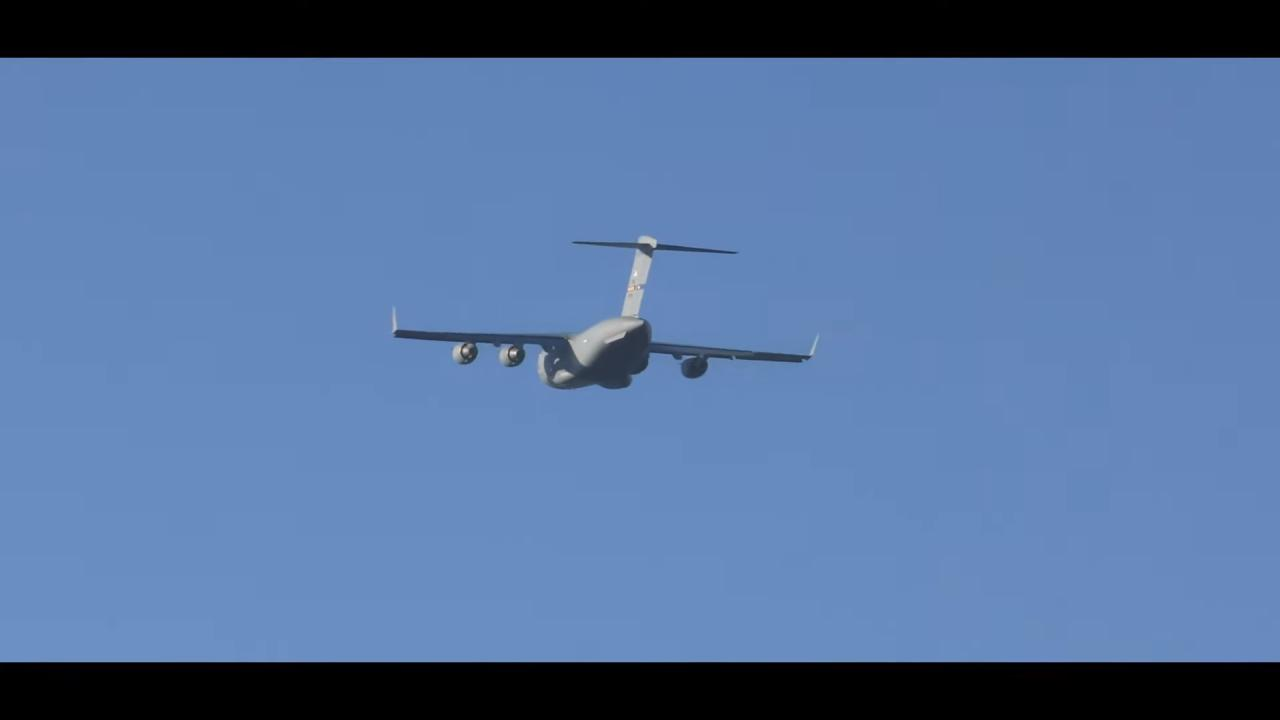Airplane: (383, 226, 831, 400)
